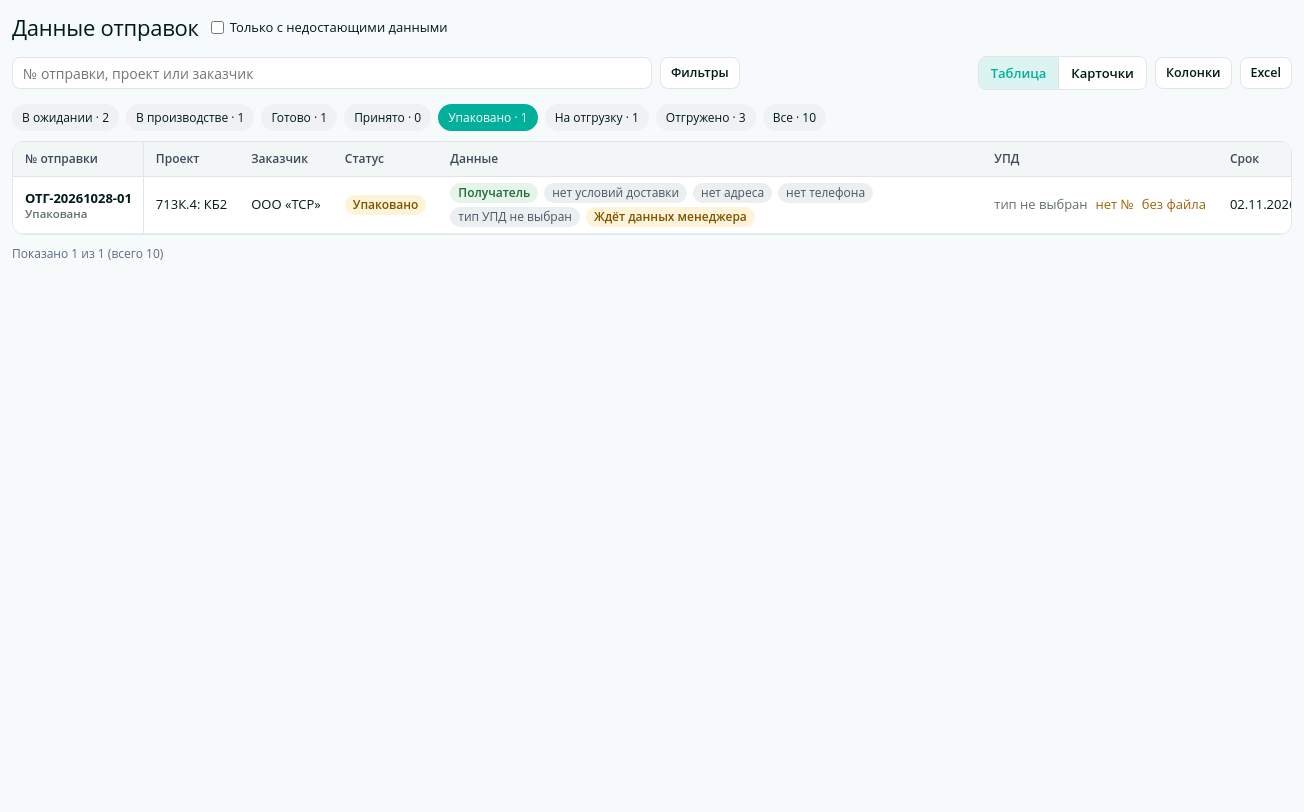
Scenario: ShipmentDataPage («Данные отправок») › splits the list into seven stages with counts: «Упаковано» is open by default, «Все» holds the cancelled one too
Check: the text "ОТГ-20261028-01" is shown, box [25,190,132,207]
Check: the text "ОТГ-20261027-06" is not shown
Click the button "Готово · 1" at (299, 118), box [262,104,337,131]
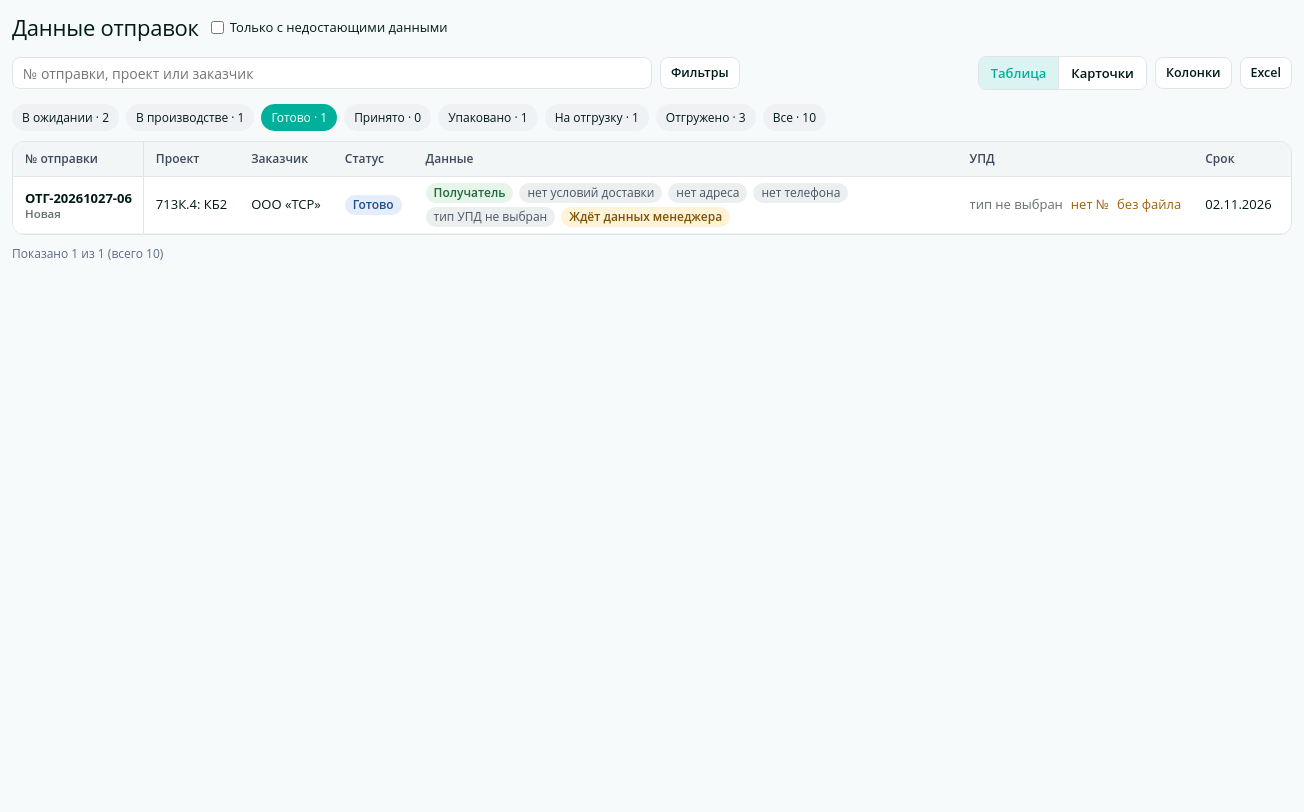
Check: the text "ОТГ-20261027-06" is shown, box [25,190,132,207]
Check: the text "Новая" is shown, box [25,206,61,221]
Click the button "Отгружено · 3" at (706, 118), box [656,104,756,131]
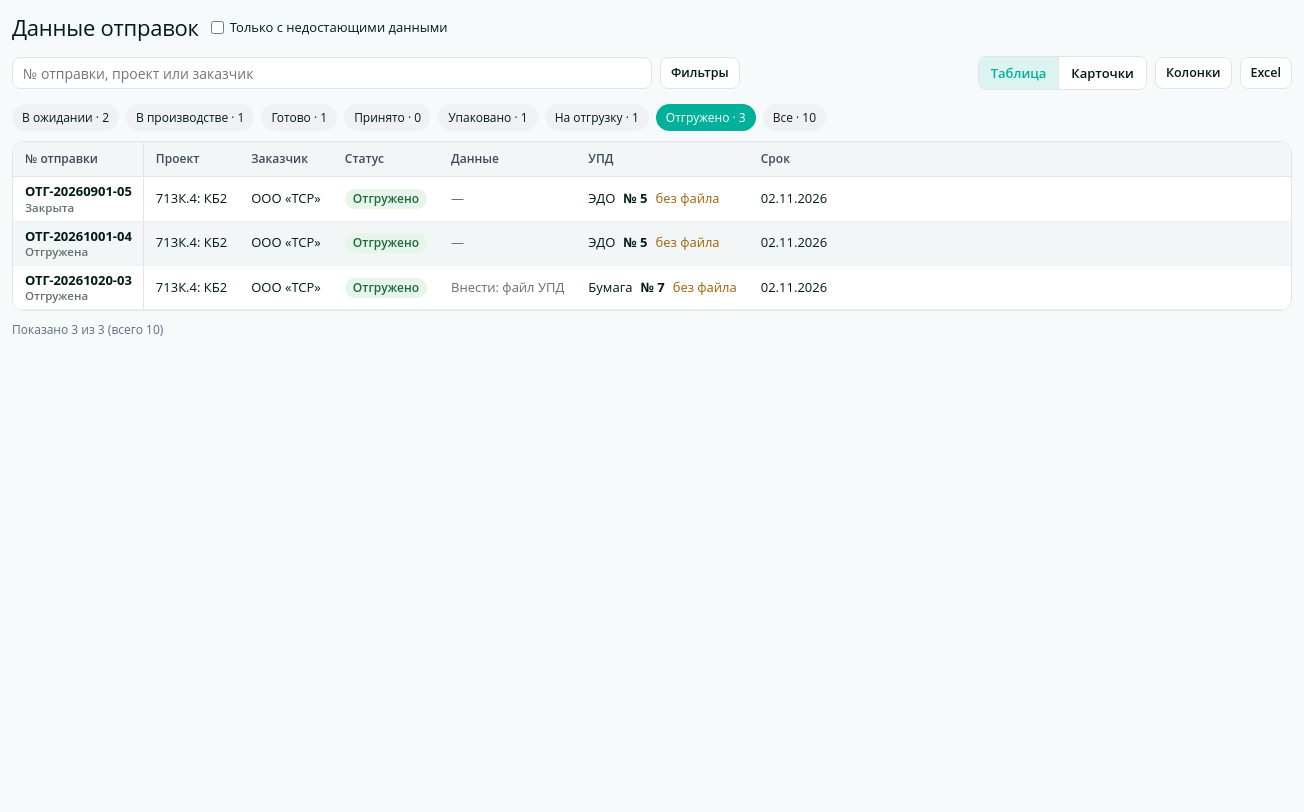
Check: the text "ОТГ-20261001-07" is not shown
Check: the text "ОТГ-20261020-03" is shown, box [25,272,132,289]
Check: the text "ОТГ-20260901-05" is shown, box [25,183,132,201]
Click the button "Все · 10" at (794, 118), box [763,104,826,131]
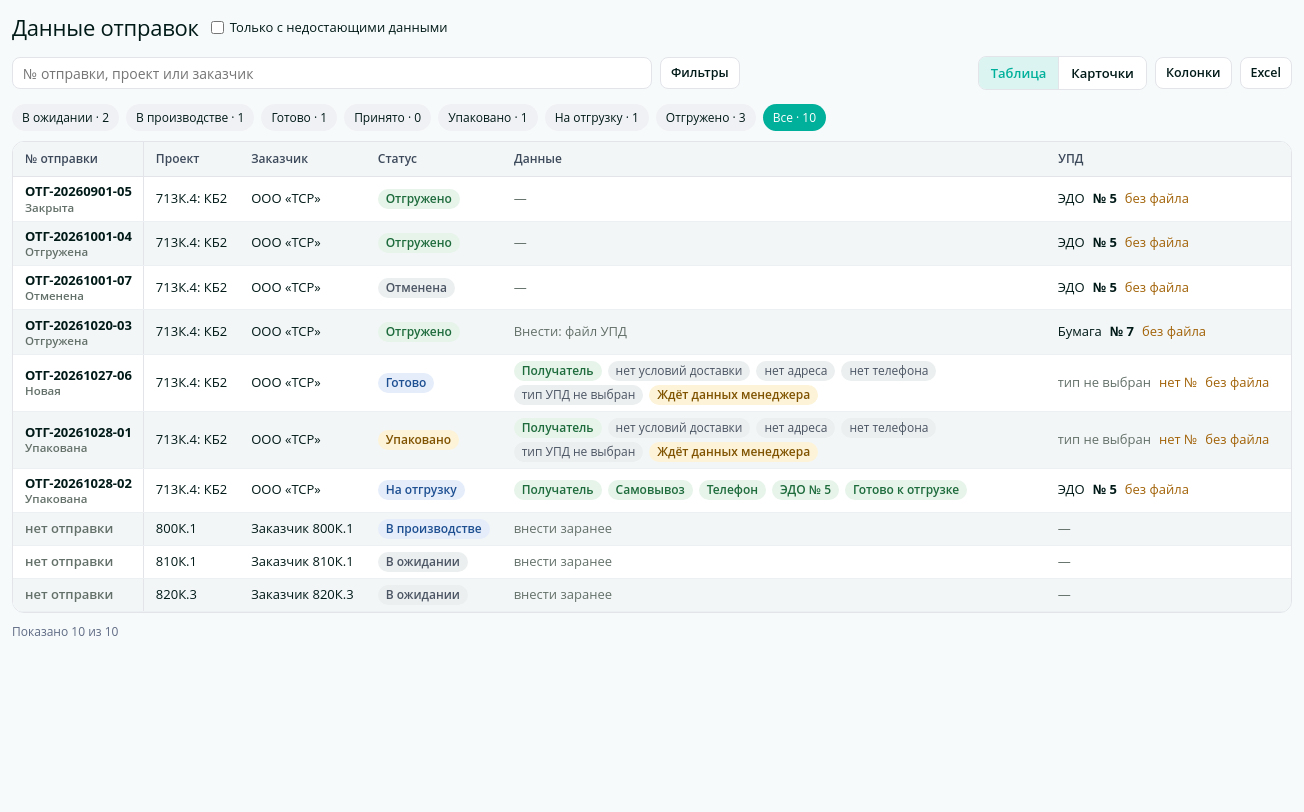
Check: the text "ОТГ-20261001-07" is shown, box [25,272,132,289]
